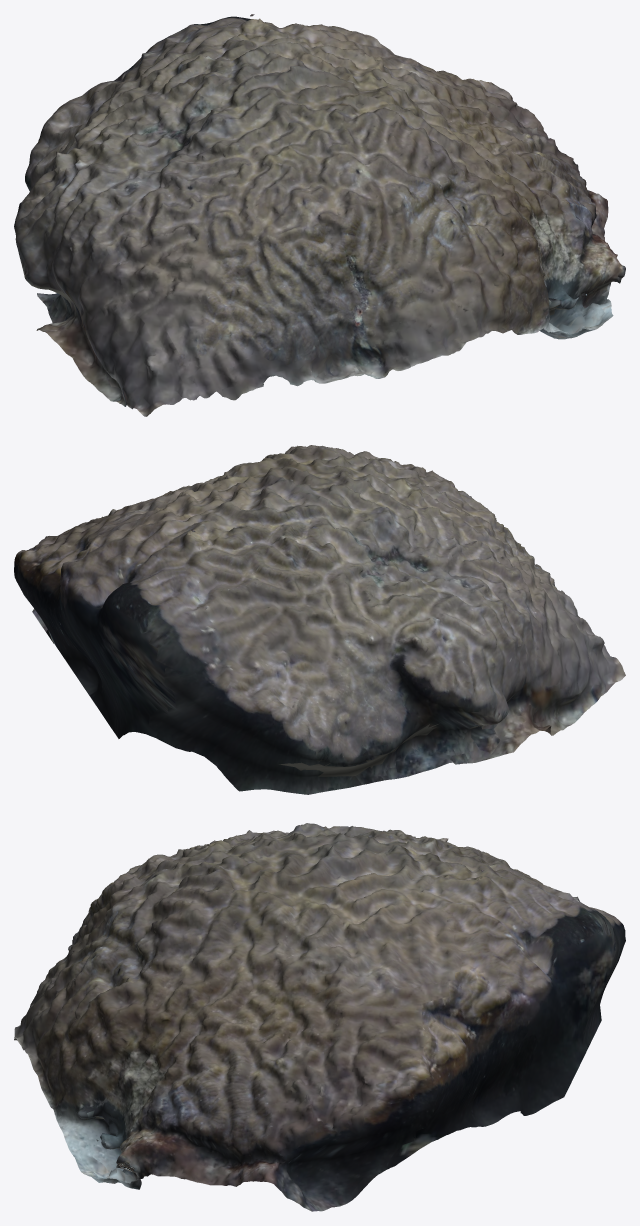
The model's file is flat.fbx.
The picture shows the model from 3 angles, top to bottom: view 1: azimuth 30°, elevation 25°; view 2: azimuth 150°, elevation 25°; view 3: azimuth 270°, elevation 25°; orthographic projection. The views are drawn at different scales.
Parts seen in each view (by area): view 1: Flat_Coral_Texture; view 2: Flat_Coral_Texture; view 3: Flat_Coral_Texture.
Part boxes in pixels (bbox=[...]): Flat_Coral_Texture: bbox=[14, 14, 625, 416]; Flat_Coral_Texture: bbox=[14, 445, 625, 794]; Flat_Coral_Texture: bbox=[14, 823, 625, 1211].
Size of the model in its own units: 427 by 184 by 404.
Materials: 1 (1 with a texture image).
